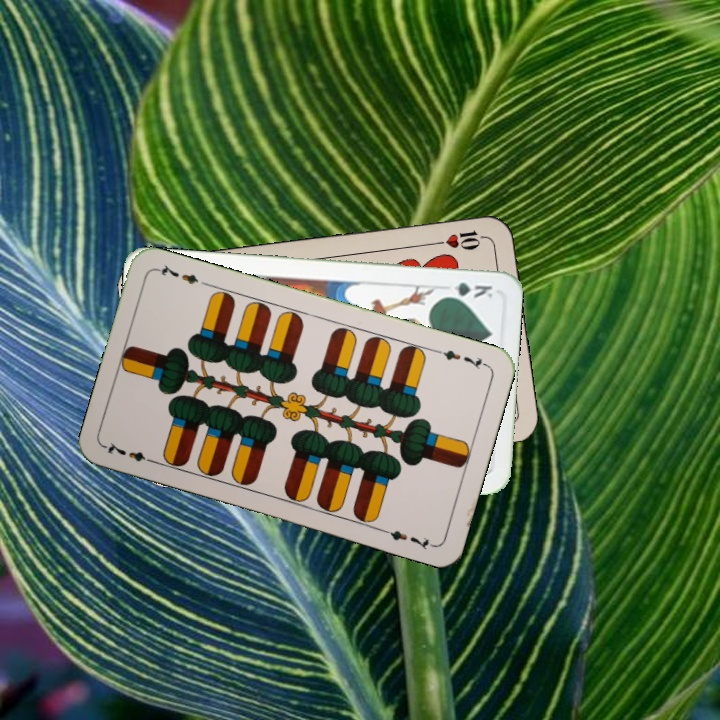E7: (102, 438, 160, 467), (432, 346, 490, 372)
GK: (437, 278, 495, 301)
H10: (429, 226, 489, 252)
